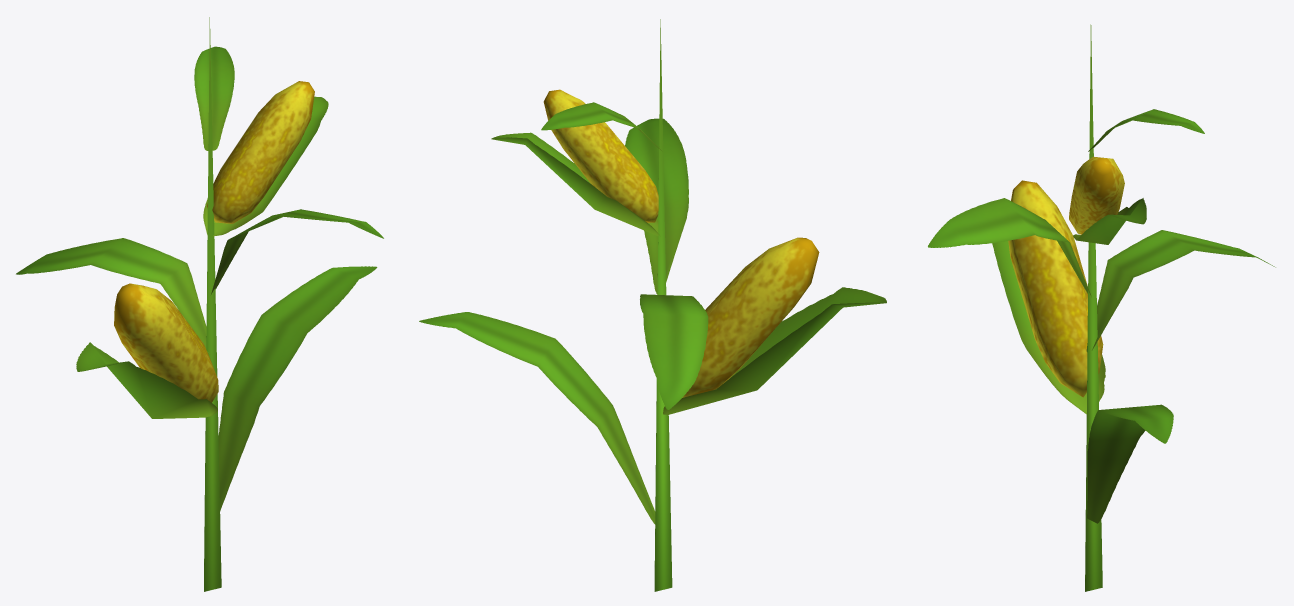
The model's file is corn.glb.
3 views of the same model, side by side, from view 1: azimuth 30°, elevation 25°; view 2: azimuth 150°, elevation 25°; view 3: azimuth 270°, elevation 25° (orthographic).
Parts seen in each view (by area): view 1: Corn_single_Plants_0; view 2: Corn_single_Plants_0; view 3: Corn_single_Plants_0.
Boxes of the visible parts, x1,y1,x2,y2 form: Corn_single_Plants_0: [16, 17, 383, 591]; Corn_single_Plants_0: [419, 19, 886, 591]; Corn_single_Plants_0: [928, 24, 1275, 591].
Bounding box in the file's own units: 0.7749 × 1.08 × 0.6025.
1 material, 1 textured.
